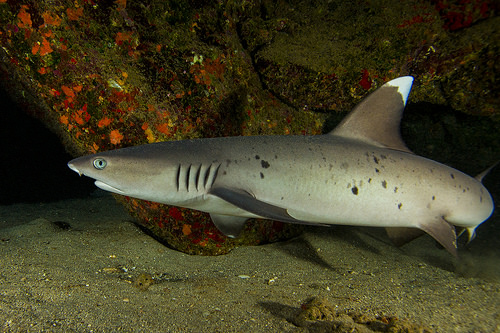shark: (50, 44, 496, 259)
